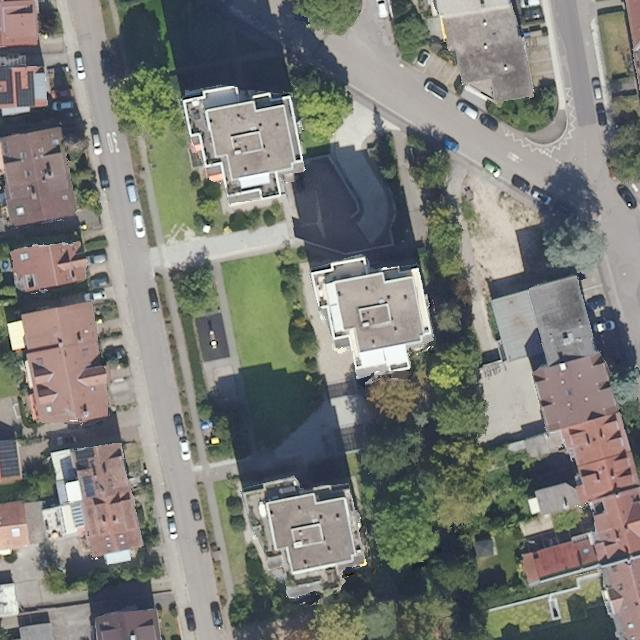PV: (0, 439, 21, 481), (14, 71, 35, 107), (0, 68, 14, 105), (75, 448, 95, 471), (82, 475, 95, 498)
